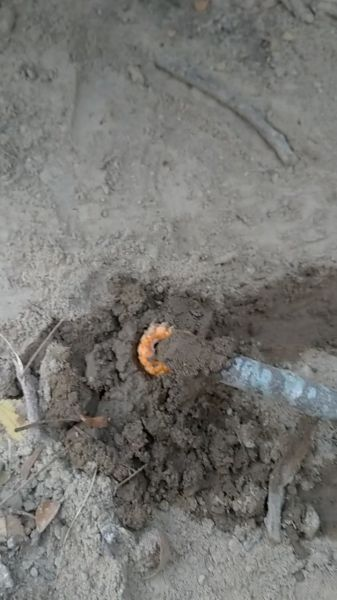eggs: (130, 318, 205, 383)
